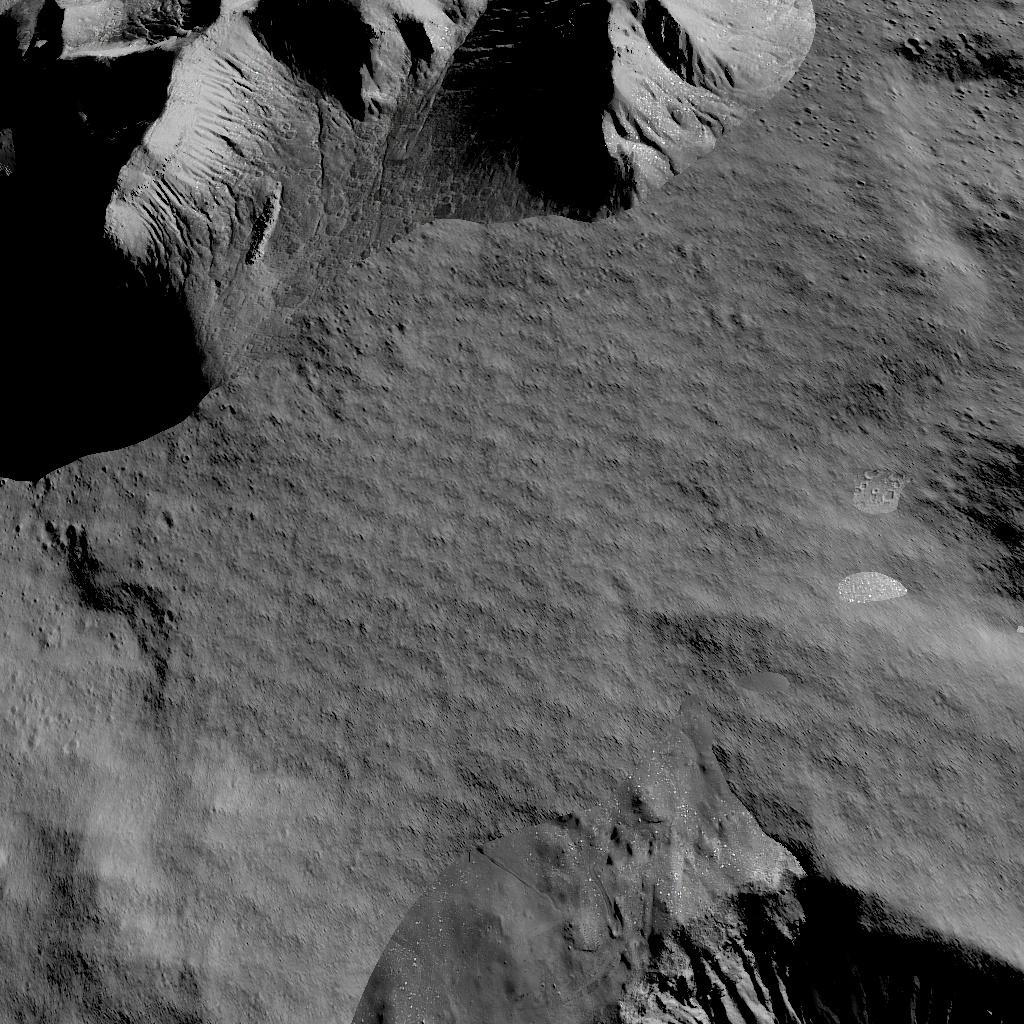Boulders: (0, 0, 827, 410)
Crater: (429, 830, 1024, 1024), (949, 418, 1024, 612), (897, 18, 934, 70)
Plan surface: (0, 494, 401, 1024), (430, 434, 930, 800), (853, 104, 1024, 384)
